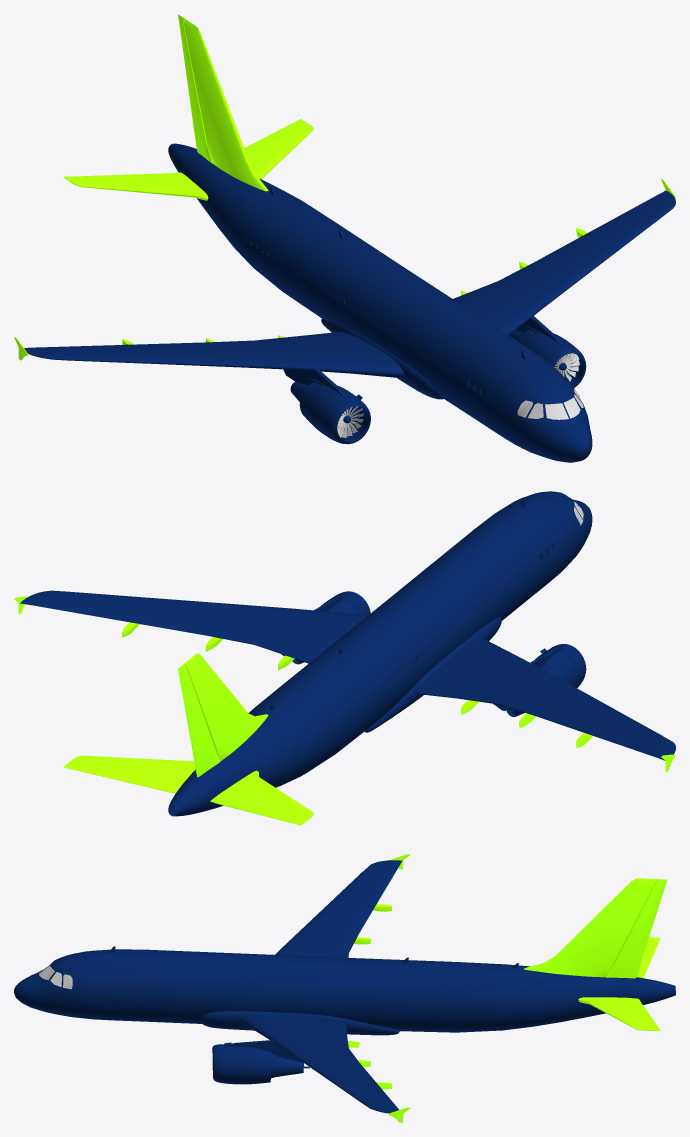
Rendered from Avion.fbx.
3 renders of one model, top to bottom at view 1: azimuth 30°, elevation 25°; view 2: azimuth 150°, elevation 25°; view 3: azimuth 270°, elevation 25°, orthographic. The views are drawn at different scales.
Visible parts, largest first — view 1: base_FuelTank_Cube_001, tail_Tail_Cylinder_002, elevator_Elevator_Cylinder_003, cockpit_windows_CockpitWindows_Cylinder_006, pales_Engine_001_Cube_004; view 2: base_FuelTank_Cube_001, elevator_Elevator_Cylinder_003, tail_Tail_Cylinder_002, pods_pod1_002_Cube_003; view 3: base_FuelTank_Cube_001, tail_Tail_Cylinder_002, elevator_Elevator_Cylinder_003, pods_pod1_002_Cube_003, cockpit_windows_CockpitWindows_Cylinder_006.
Part boxes in pixels (bbox=[...]): base_FuelTank_Cube_001: bbox=[24, 143, 675, 462]; tail_Tail_Cylinder_002: bbox=[178, 14, 268, 191]; elevator_Elevator_Cylinder_003: bbox=[63, 119, 313, 200]; cockpit_windows_CockpitWindows_Cylinder_006: bbox=[517, 389, 583, 419]; pales_Engine_001_Cube_004: bbox=[337, 353, 579, 437]; base_FuelTank_Cube_001: bbox=[20, 491, 675, 816]; elevator_Elevator_Cylinder_003: bbox=[63, 755, 313, 825]; tail_Tail_Cylinder_002: bbox=[178, 653, 268, 777]; pods_pod1_002_Cube_003: bbox=[122, 622, 592, 748]; base_FuelTank_Cube_001: bbox=[14, 860, 675, 1113]; tail_Tail_Cylinder_002: bbox=[524, 878, 667, 978]; elevator_Elevator_Cylinder_003: bbox=[578, 937, 660, 1030]; pods_pod1_002_Cube_003: bbox=[348, 904, 392, 1089]; cockpit_windows_CockpitWindows_Cylinder_006: bbox=[39, 965, 72, 989].
Bounding box in the file's own units: 330 × 98.57 × 365.
